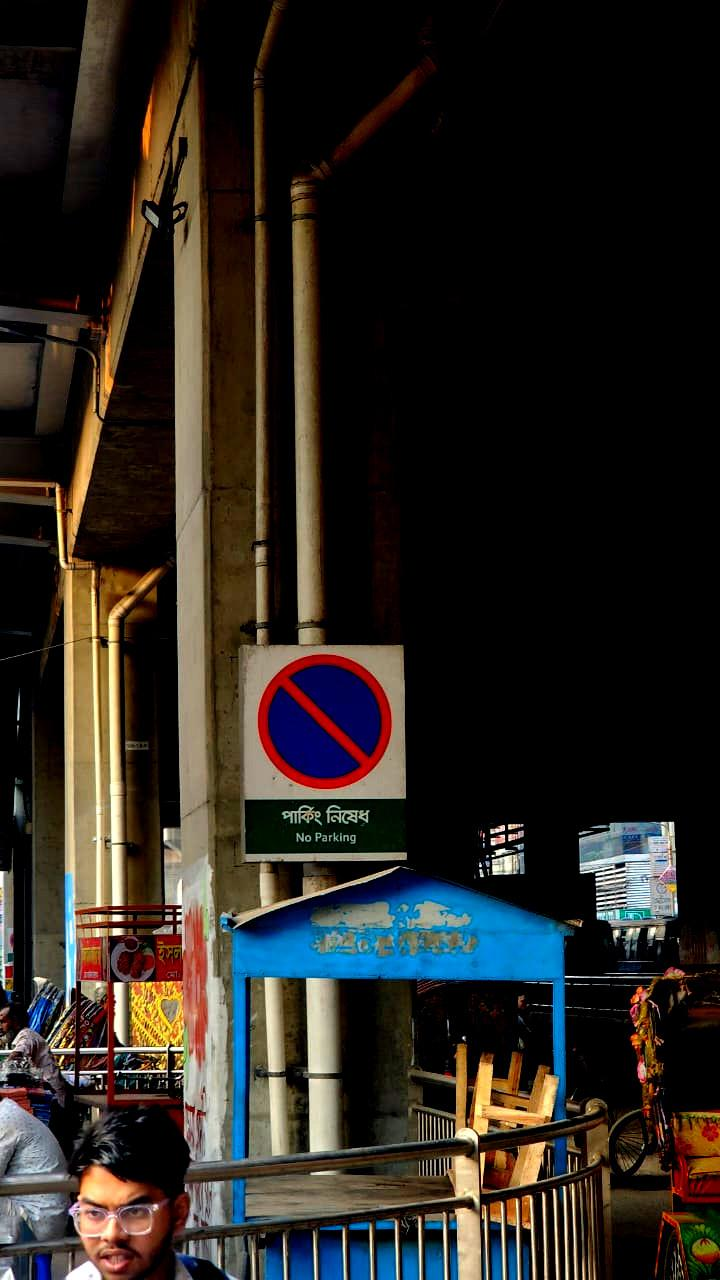No Parking: (248, 630, 418, 874)
